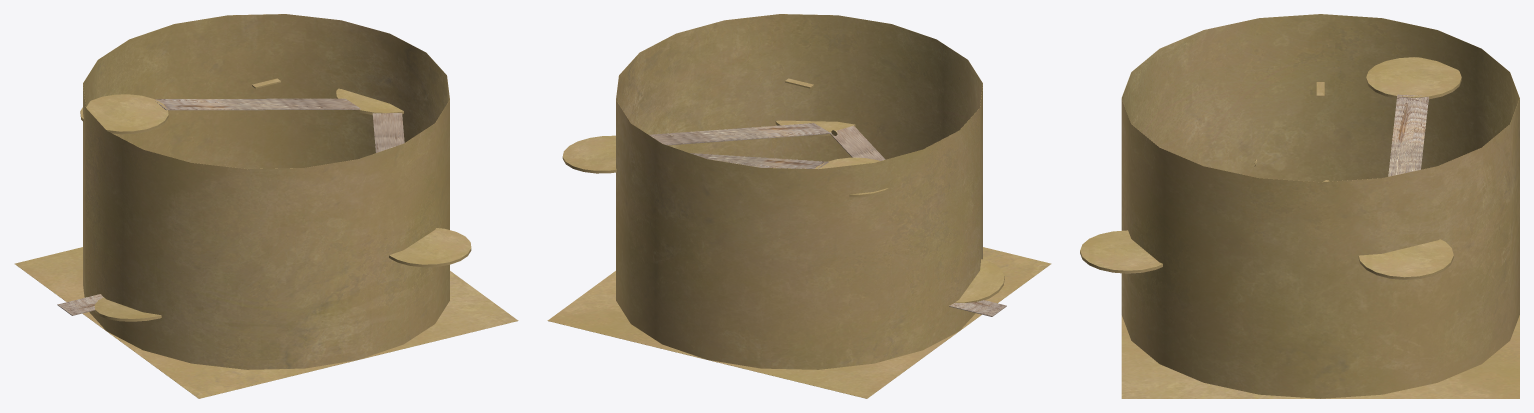
File: demo.fbx
The picture shows the model from 3 angles, left to right: view 1: azimuth 30°, elevation 25°; view 2: azimuth 150°, elevation 25°; view 3: azimuth 270°, elevation 25°; orthographic projection. The views are drawn at different scales.
Visible parts, largest first — view 1: Wall, Floor, Platform4, Bridge4, Platform2, Bridge3, Platform1, Platform3, Bridge1; view 2: Wall, Floor, Bridge3, Platform3, Platform1, Bridge4, Bridge2, Platform4, Bridge1, Platform2; view 3: Wall, Floor, Platform4, Platform3, Bridge4, Platform2.
Part boxes in pixels (x1,y1,x2,y2): Wall: (83, 14, 449, 369); Floor: (14, 247, 518, 398); Platform4: (80, 94, 168, 134); Bridge4: (155, 98, 360, 110); Platform2: (389, 228, 471, 267); Bridge3: (372, 113, 404, 152); Platform1: (94, 297, 161, 321); Platform3: (336, 88, 403, 114); Bridge1: (57, 294, 103, 315); Wall: (616, 14, 982, 369); Floor: (547, 247, 1051, 398); Bridge3: (649, 123, 829, 145); Platform3: (562, 135, 616, 173); Platform1: (955, 259, 1004, 302); Bridge4: (690, 153, 828, 168); Bridge2: (830, 125, 885, 160); Platform4: (815, 157, 889, 197); Bridge1: (949, 300, 1006, 316); Platform2: (775, 120, 855, 136); Wall: (1121, 14, 1519, 398); Floor: (1121, 315, 1519, 398); Platform4: (1366, 57, 1461, 99); Platform3: (1358, 239, 1453, 279); Bridge4: (1388, 94, 1428, 176); Platform2: (1080, 230, 1162, 273).
Size of the model in its own units: 307 by 181 by 276.
